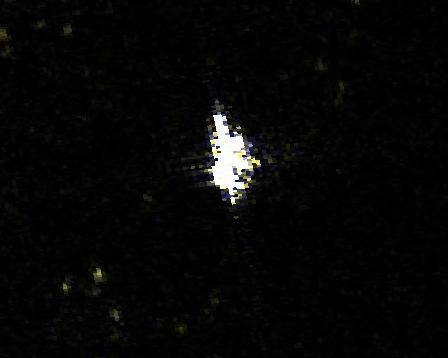ship: (204, 109, 257, 204)
